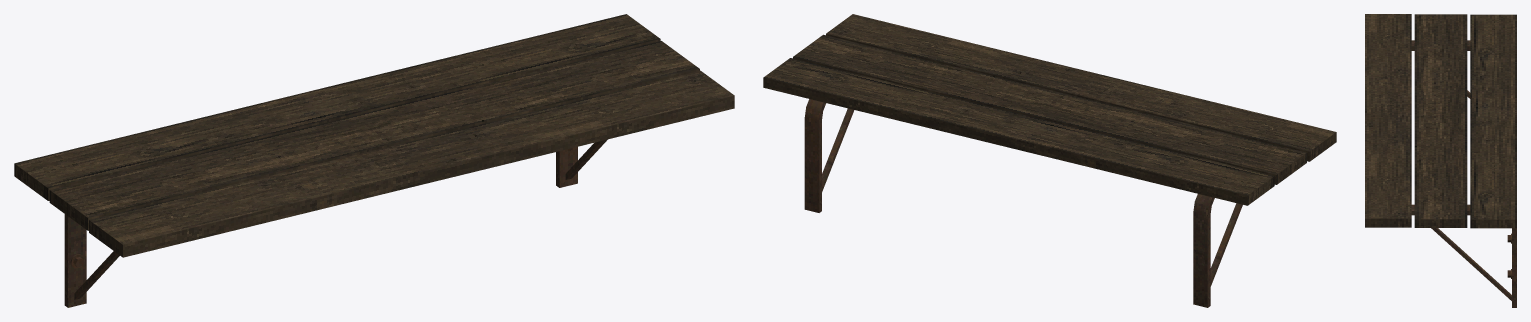
File: hanging_shelf_mx_2.glb
3 views of the same model, side by side, from view 1: azimuth 30°, elevation 25°; view 2: azimuth 150°, elevation 25°; view 3: azimuth 270°, elevation 25° (orthographic). The views are drawn at different scales.
Parts seen in each view (by area): view 1: hanging_shelf_mx_2; view 2: hanging_shelf_mx_2; view 3: hanging_shelf_mx_2.
Boxes of the visible parts, <box> form: hanging_shelf_mx_2: <box>14,14,734,307</box>; hanging_shelf_mx_2: <box>763,14,1336,307</box>; hanging_shelf_mx_2: <box>1365,14,1516,307</box>.
Size of the model in its own units: 1 by 0.24 by 0.312.
2 materials, 2 textured.
